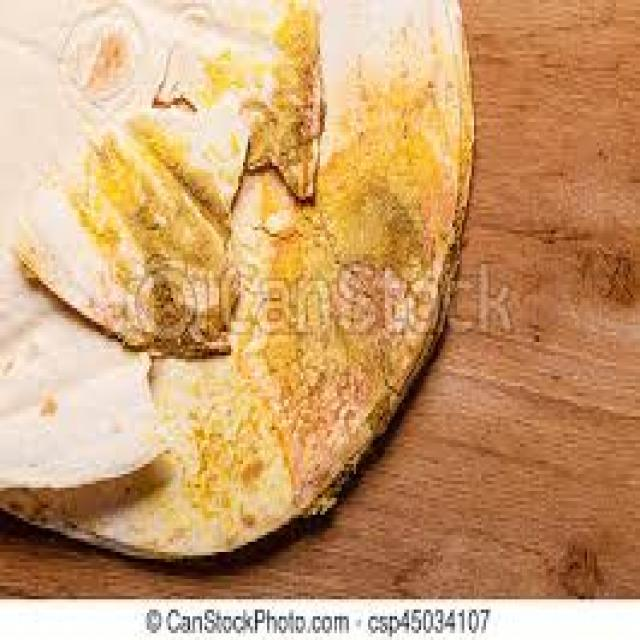organic waste: (0, 0, 472, 559), (14, 0, 320, 352), (0, 0, 171, 484)
